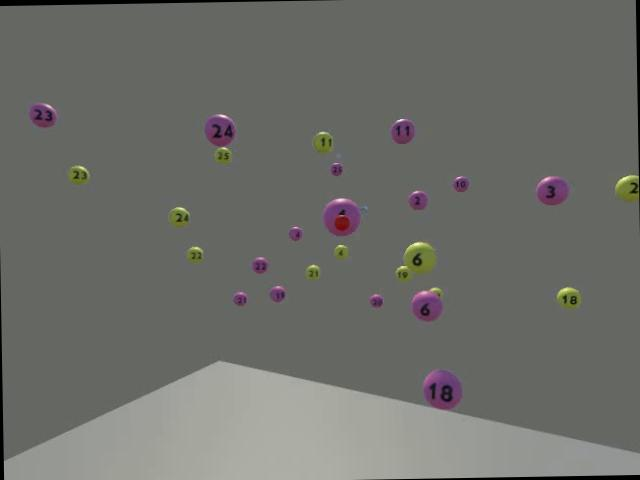ball_02_pink: (408, 190, 428, 210)
ball_03_pink: (536, 175, 568, 204)
ball_04_pink: (289, 226, 302, 240)
ball_04_yellow: (333, 243, 348, 258)
ball_06_pink: (410, 289, 443, 321)
ball_06_yellow: (403, 240, 436, 273)
ball_10_pink: (454, 176, 469, 192)
ball_11_pink: (390, 118, 414, 143)
ball_11_yellow: (312, 130, 332, 152)
ball_18_pink: (422, 368, 462, 409)
ball_18_yellow: (556, 286, 581, 308)
ball_19_pink: (269, 285, 285, 302)
ball_19_yellow: (394, 264, 410, 281)
ball_20_pink: (369, 294, 384, 308)
ball_21_pink: (232, 290, 247, 306)
ball_21_yellow: (305, 264, 320, 279)
ball_22_pink: (252, 256, 268, 273)
ball_22_yellow: (185, 246, 203, 262)
ball_23_pink: (29, 102, 57, 127)
ball_23_yellow: (67, 164, 89, 184)
ball_24_pink: (203, 112, 236, 146)
ball_24_yellow: (168, 206, 190, 226)
ball_25_pink: (329, 162, 343, 174)
ball_25_yellow: (214, 146, 232, 162)
ball_unknown: (321, 196, 360, 235), (614, 174, 638, 200), (429, 286, 442, 298)
user_cursor: (334, 214, 350, 231)
